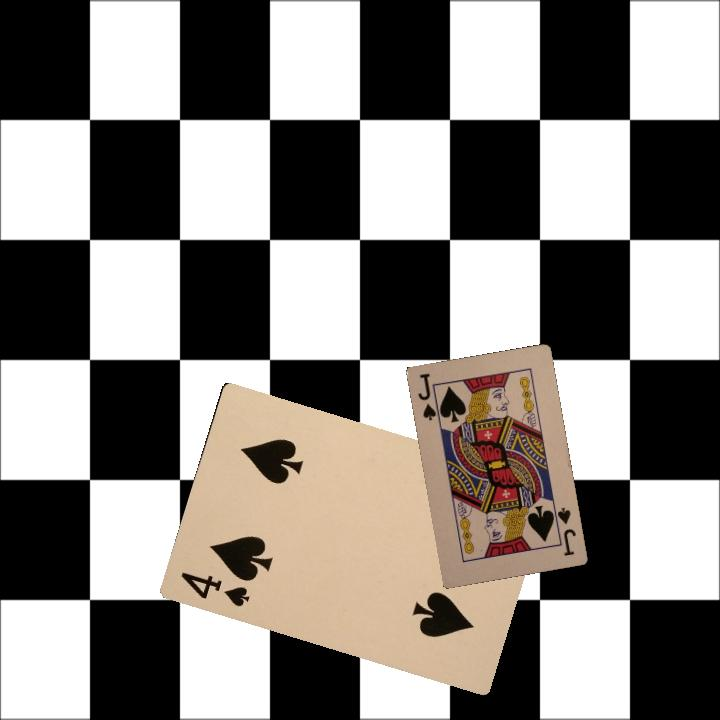4s: (177, 568, 253, 610)
Js: (549, 504, 578, 559), (414, 369, 443, 424)
